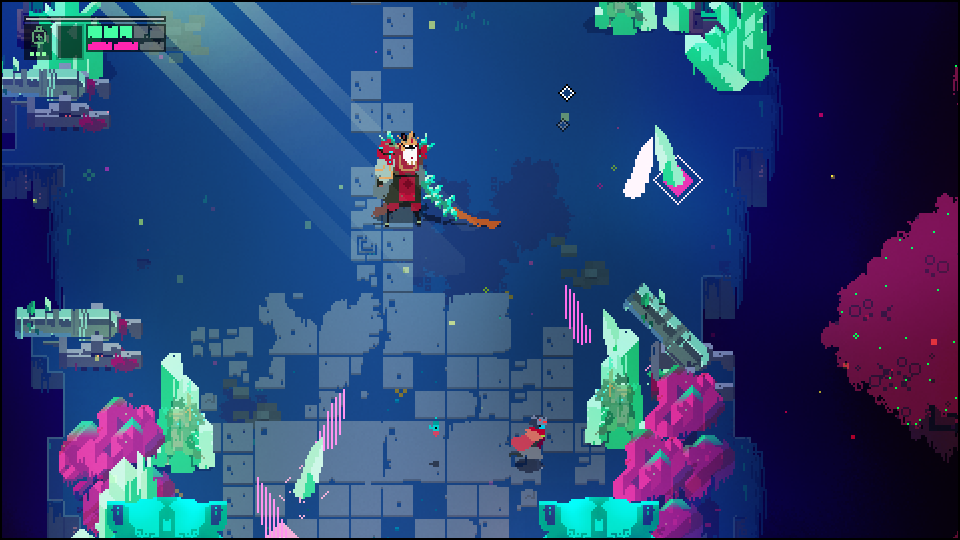hanged_crys: (613, 128, 654, 195), (253, 480, 296, 539), (293, 430, 327, 502), (653, 122, 685, 190)
hanged_man: (373, 129, 457, 222)
player: (512, 417, 546, 467)
